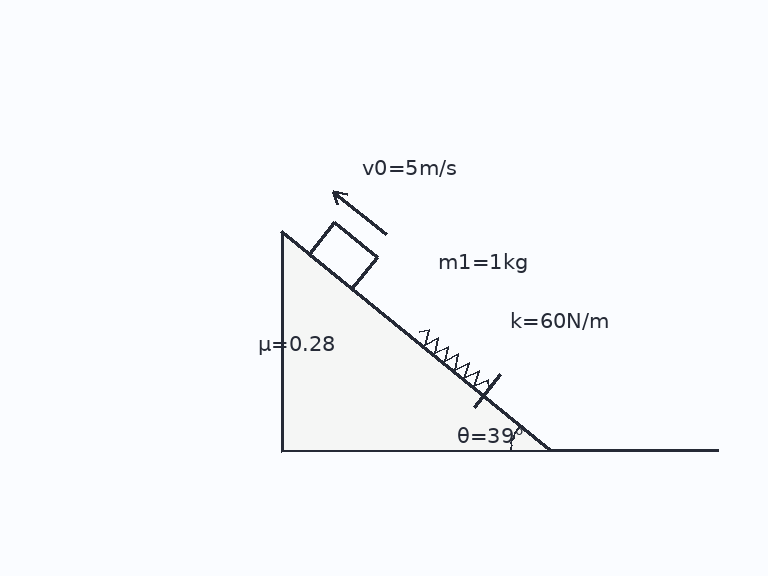block: (306, 220, 379, 290)
ramp: (279, 230, 553, 452)
spring: (417, 328, 491, 390)
